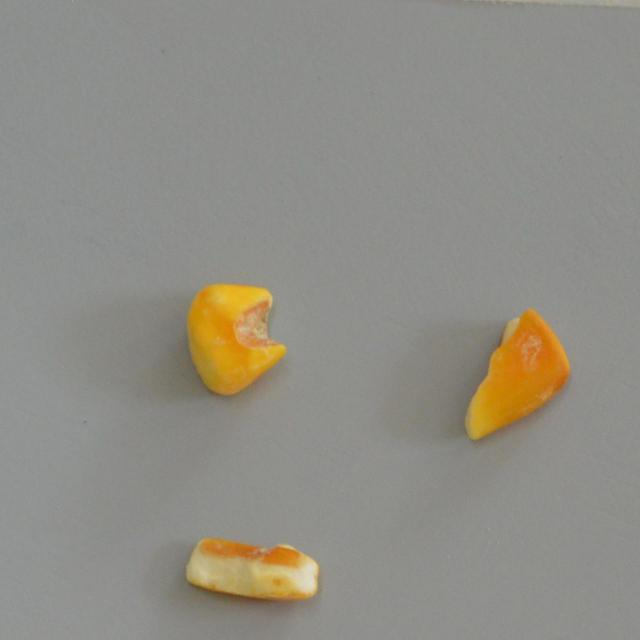dañado: (184, 279, 286, 399), (184, 535, 320, 604)
pelicula: (459, 307, 570, 442)
